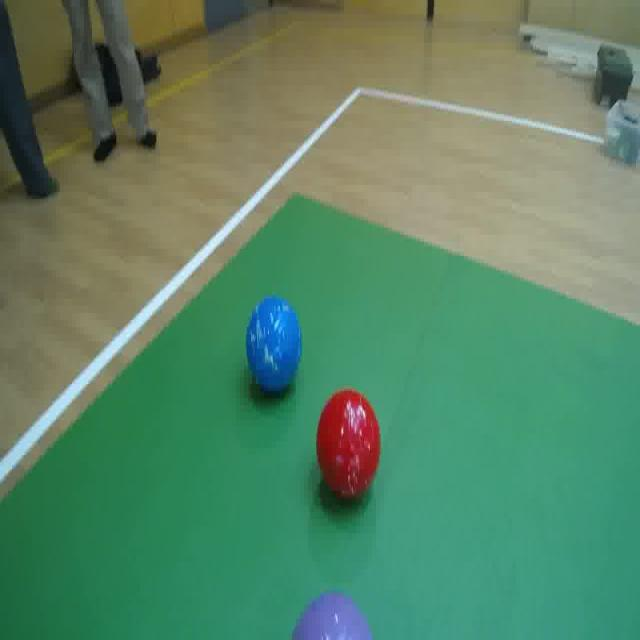blue_ball: (243, 293, 304, 390)
purple_ball: (291, 588, 373, 640)
red_ball: (314, 387, 386, 508)
